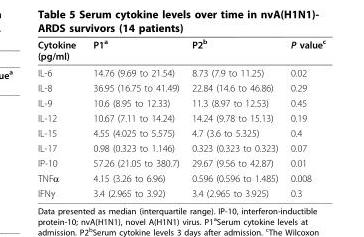table: (36, 37, 325, 198)
table column: (83, 37, 184, 198), (184, 37, 283, 198), (36, 37, 83, 198), (283, 37, 325, 198)
table column header: (36, 37, 325, 64)
table row: (36, 37, 325, 64), (36, 79, 325, 95), (36, 64, 325, 79), (36, 95, 325, 110), (36, 110, 325, 125), (36, 125, 325, 140), (36, 140, 325, 155), (36, 169, 325, 184), (36, 155, 325, 169), (36, 184, 325, 198)
